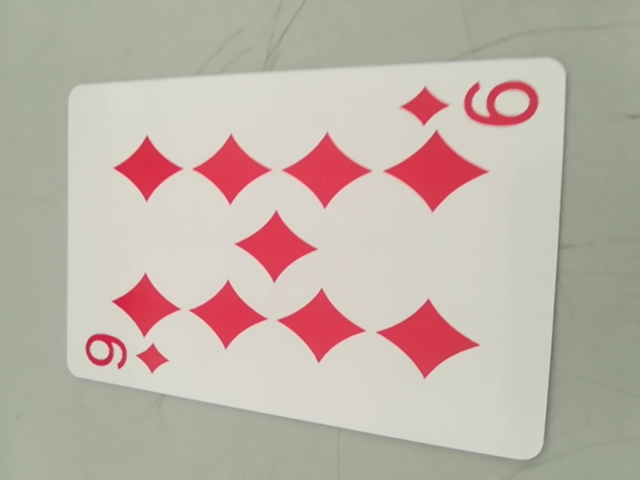fk 9: (401, 71, 545, 137), (73, 328, 175, 384)
